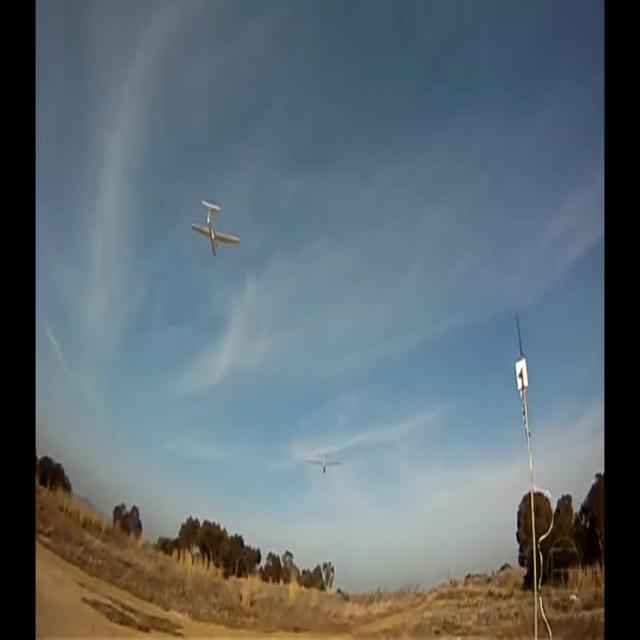iha: (191, 198, 241, 258), (306, 453, 341, 476)
